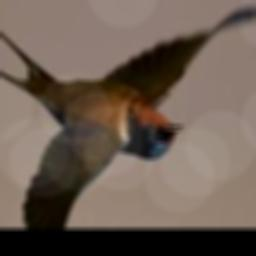Swallow: (0, 0, 256, 229)
